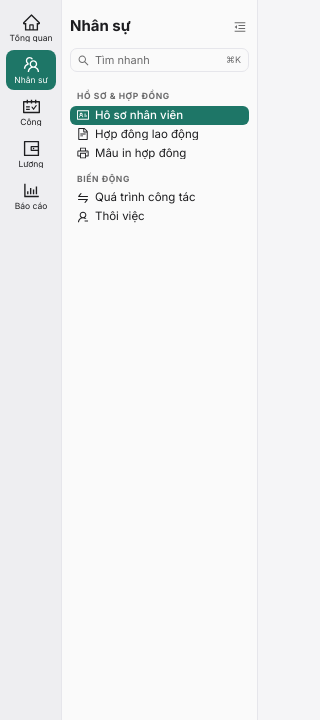
it: Sidebar › bấm rail phân hệ có route thì điều hướng, không bung panel
Click the button titled "Báo cáo —" at (31, 196), box 6,176 -> 56,216
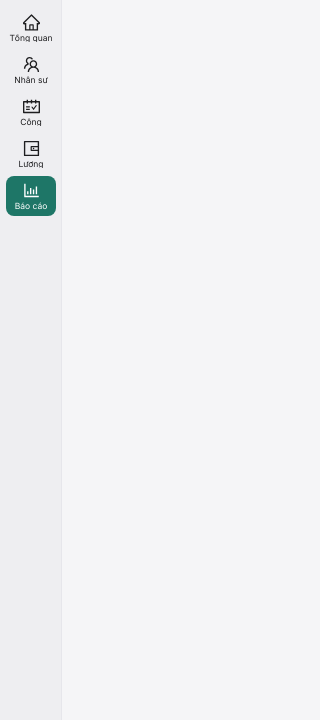
Check: the field with placeholder "Tìm nhanh" is not shown
Check: the button "Hợp đồng lao động" is gone
